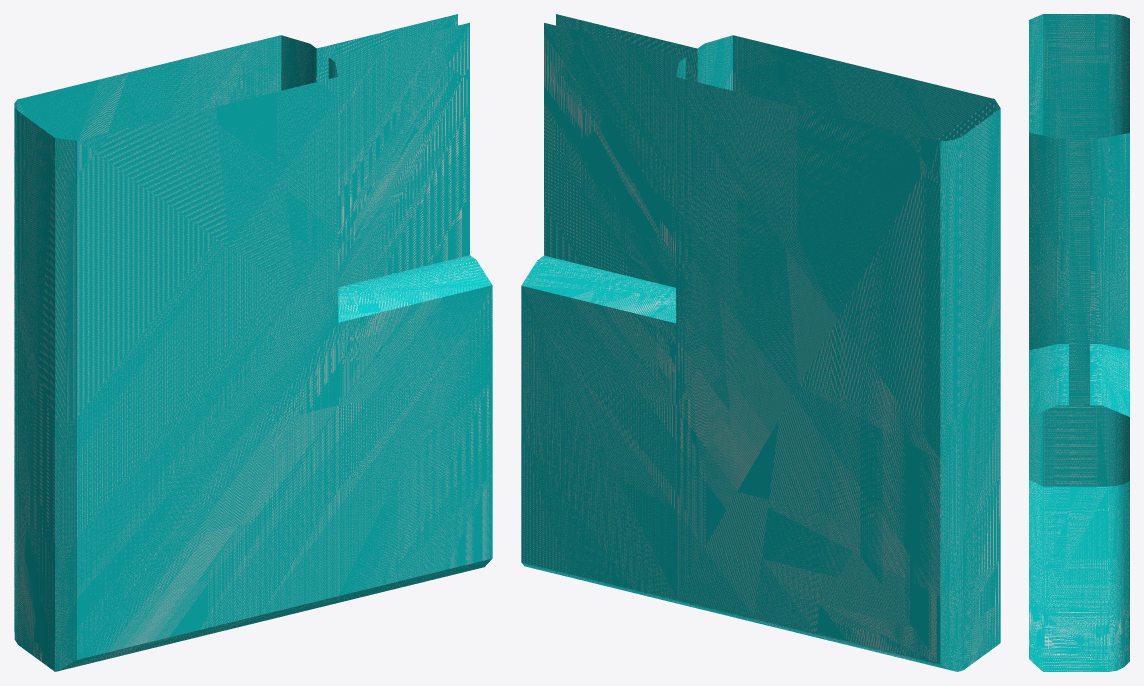
File: original-29.obj
3 renders of one model, left to right at view 1: azimuth 30°, elevation 25°; view 2: azimuth 150°, elevation 25°; view 3: azimuth 270°, elevation 25°, orthographic. The views are drawn at different scales.
Visible parts, largest first — view 1: LT_21_BL1/LT_21_BL/mesh23/mesh23-geometry#mesh23-geometry; view 2: LT_21_BL1/LT_21_BL/mesh23/mesh23-geometry#mesh23-geometry; view 3: LT_21_BL1/LT_21_BL/mesh23/mesh23-geometry#mesh23-geometry.
Boxes of the visible parts, x1,y1,x2,y2 form: LT_21_BL1/LT_21_BL/mesh23/mesh23-geometry#mesh23-geometry: [14, 14, 492, 671]; LT_21_BL1/LT_21_BL/mesh23/mesh23-geometry#mesh23-geometry: [521, 14, 1000, 671]; LT_21_BL1/LT_21_BL/mesh23/mesh23-geometry#mesh23-geometry: [1029, 14, 1129, 671].
Size of the model in its own units: 0.1192 by 0.1416 by 0.0274.
